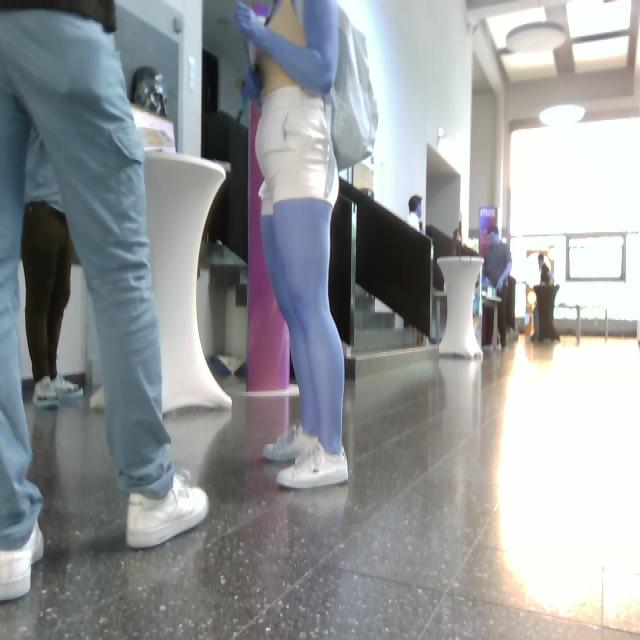chair: (87, 150, 233, 416)
door: (82, 1, 203, 396)
light bulb: (506, 21, 567, 54), (539, 104, 586, 126)
person: (1, 1, 210, 602), (234, 1, 350, 490), (21, 124, 85, 409), (483, 225, 513, 350), (527, 249, 560, 342)
tiled floor: (2, 331, 639, 639)
